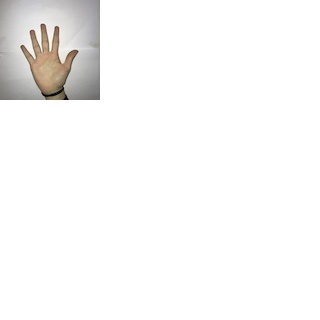paper: (15, 22, 80, 94)
